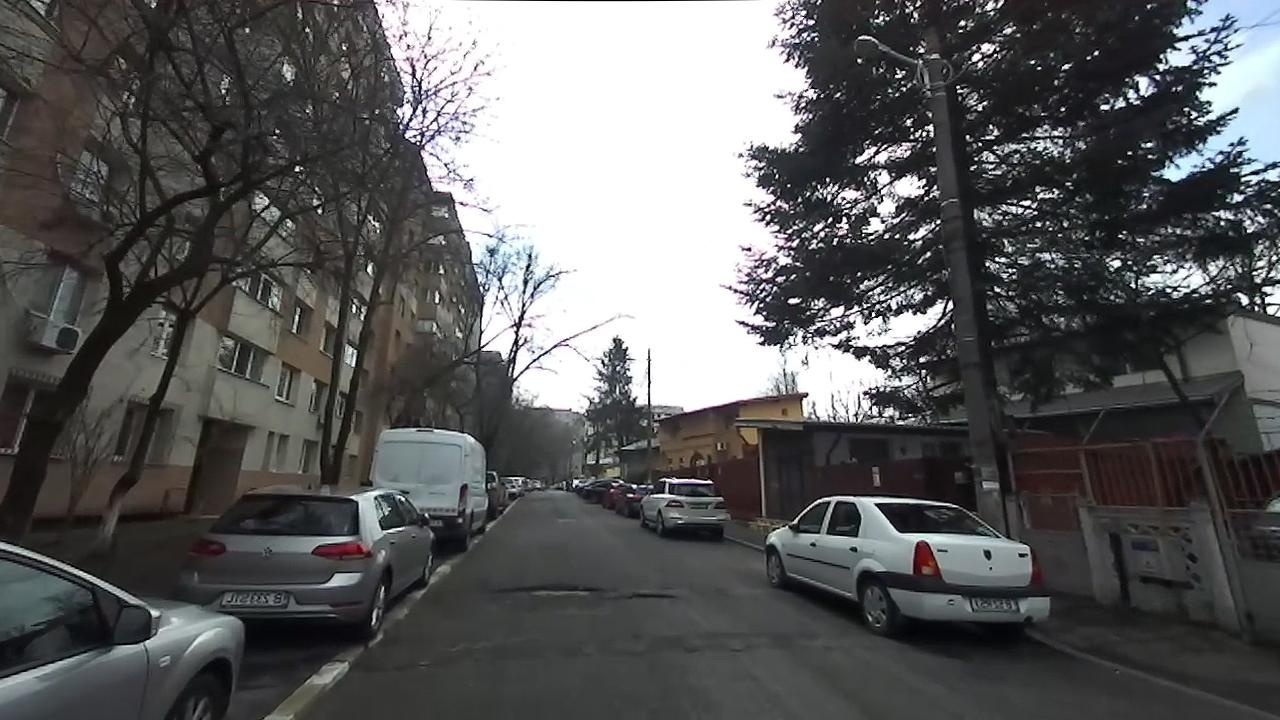pothole: (487, 579, 602, 602), (620, 589, 677, 602)
